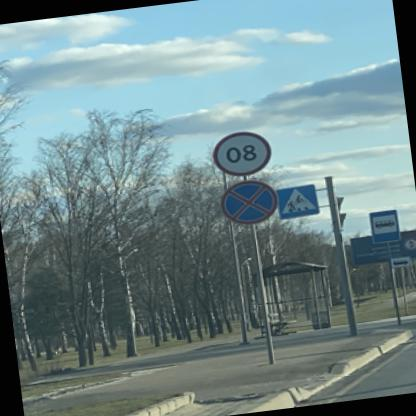crosswalk: (275, 181, 322, 217)
speedlimit: (213, 127, 276, 178)
